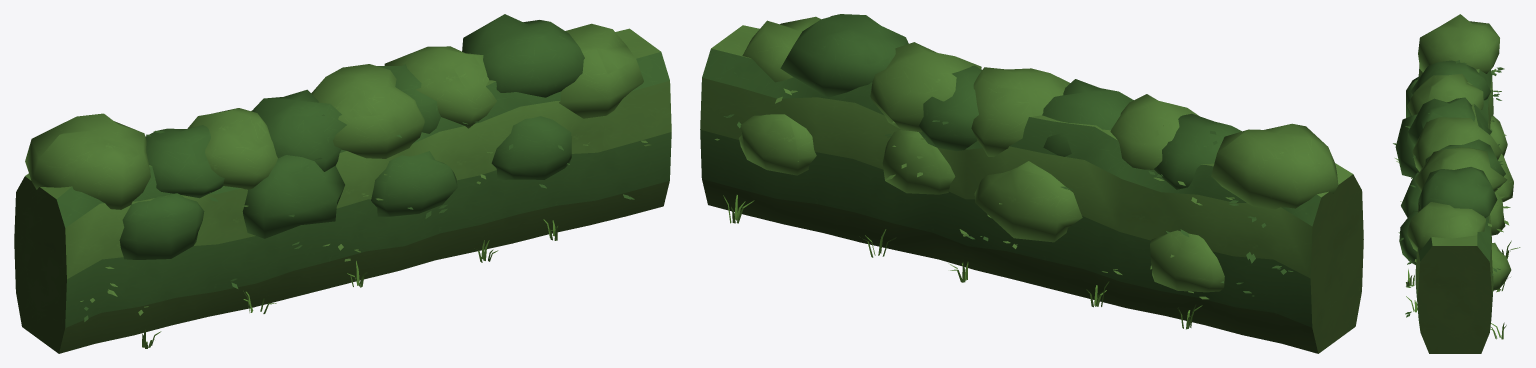
The model's file is windbreak_hedge.glb.
3 renders of one model, left to right at view 1: azimuth 30°, elevation 25°; view 2: azimuth 150°, elevation 25°; view 3: azimuth 270°, elevation 25°, orthographic. The views are drawn at different scales.
Parts seen in each view (by area): view 1: windbreak_hedge; view 2: windbreak_hedge; view 3: windbreak_hedge.
Boxes of the visible parts, left/top/right/bottom form: windbreak_hedge: left=14, top=14, right=671, bottom=353; windbreak_hedge: left=700, top=14, right=1363, bottom=353; windbreak_hedge: left=1393, top=14, right=1520, bottom=353.
Size of the model in its own units: 8.07 by 2.51 by 2.09.
Materials: 5 (5 with a texture image).
